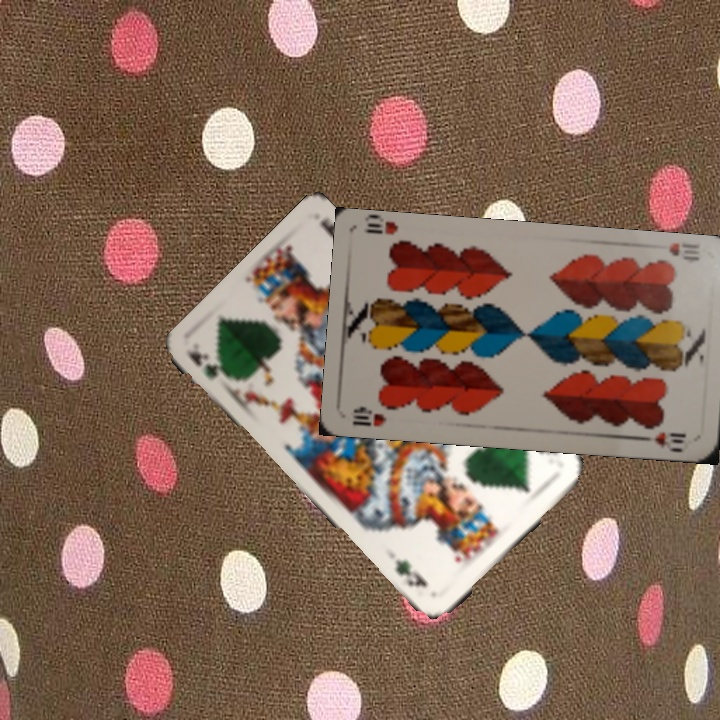GK: (184, 347, 235, 385)
H10: (348, 402, 389, 430), (665, 239, 702, 266)
